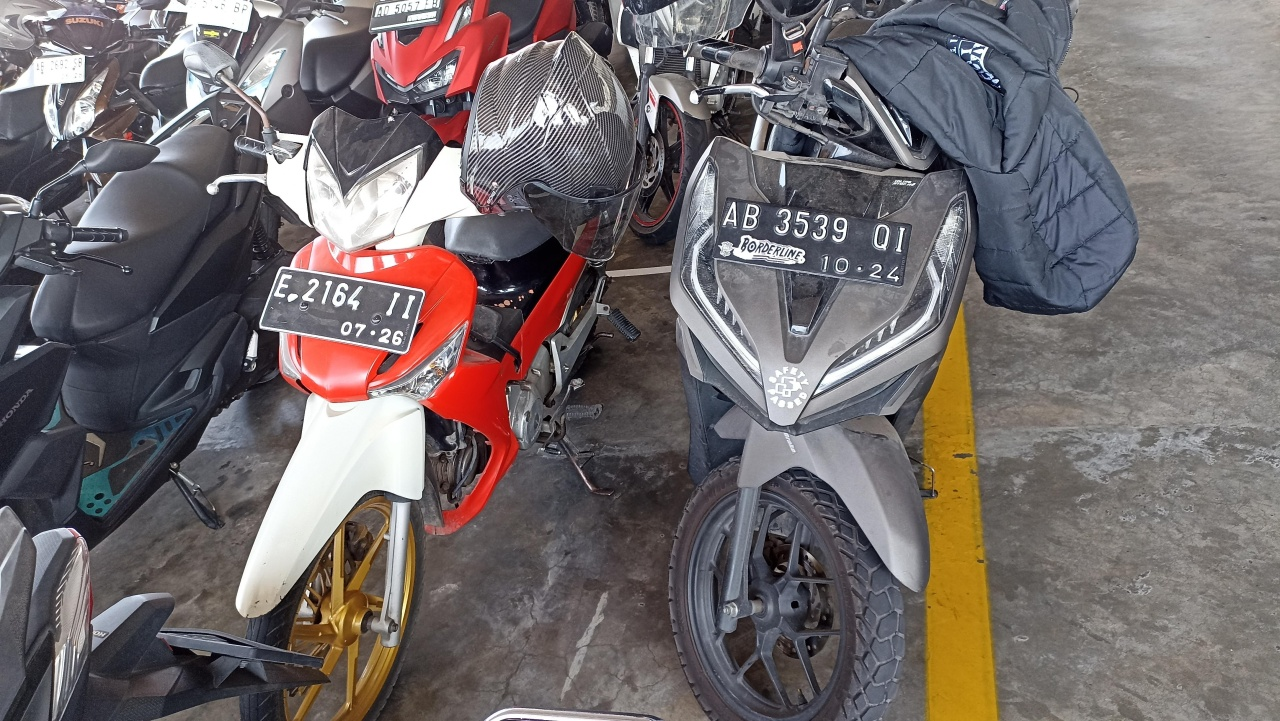plate: (712, 195, 912, 287), (259, 267, 426, 355), (370, 0, 442, 33)
